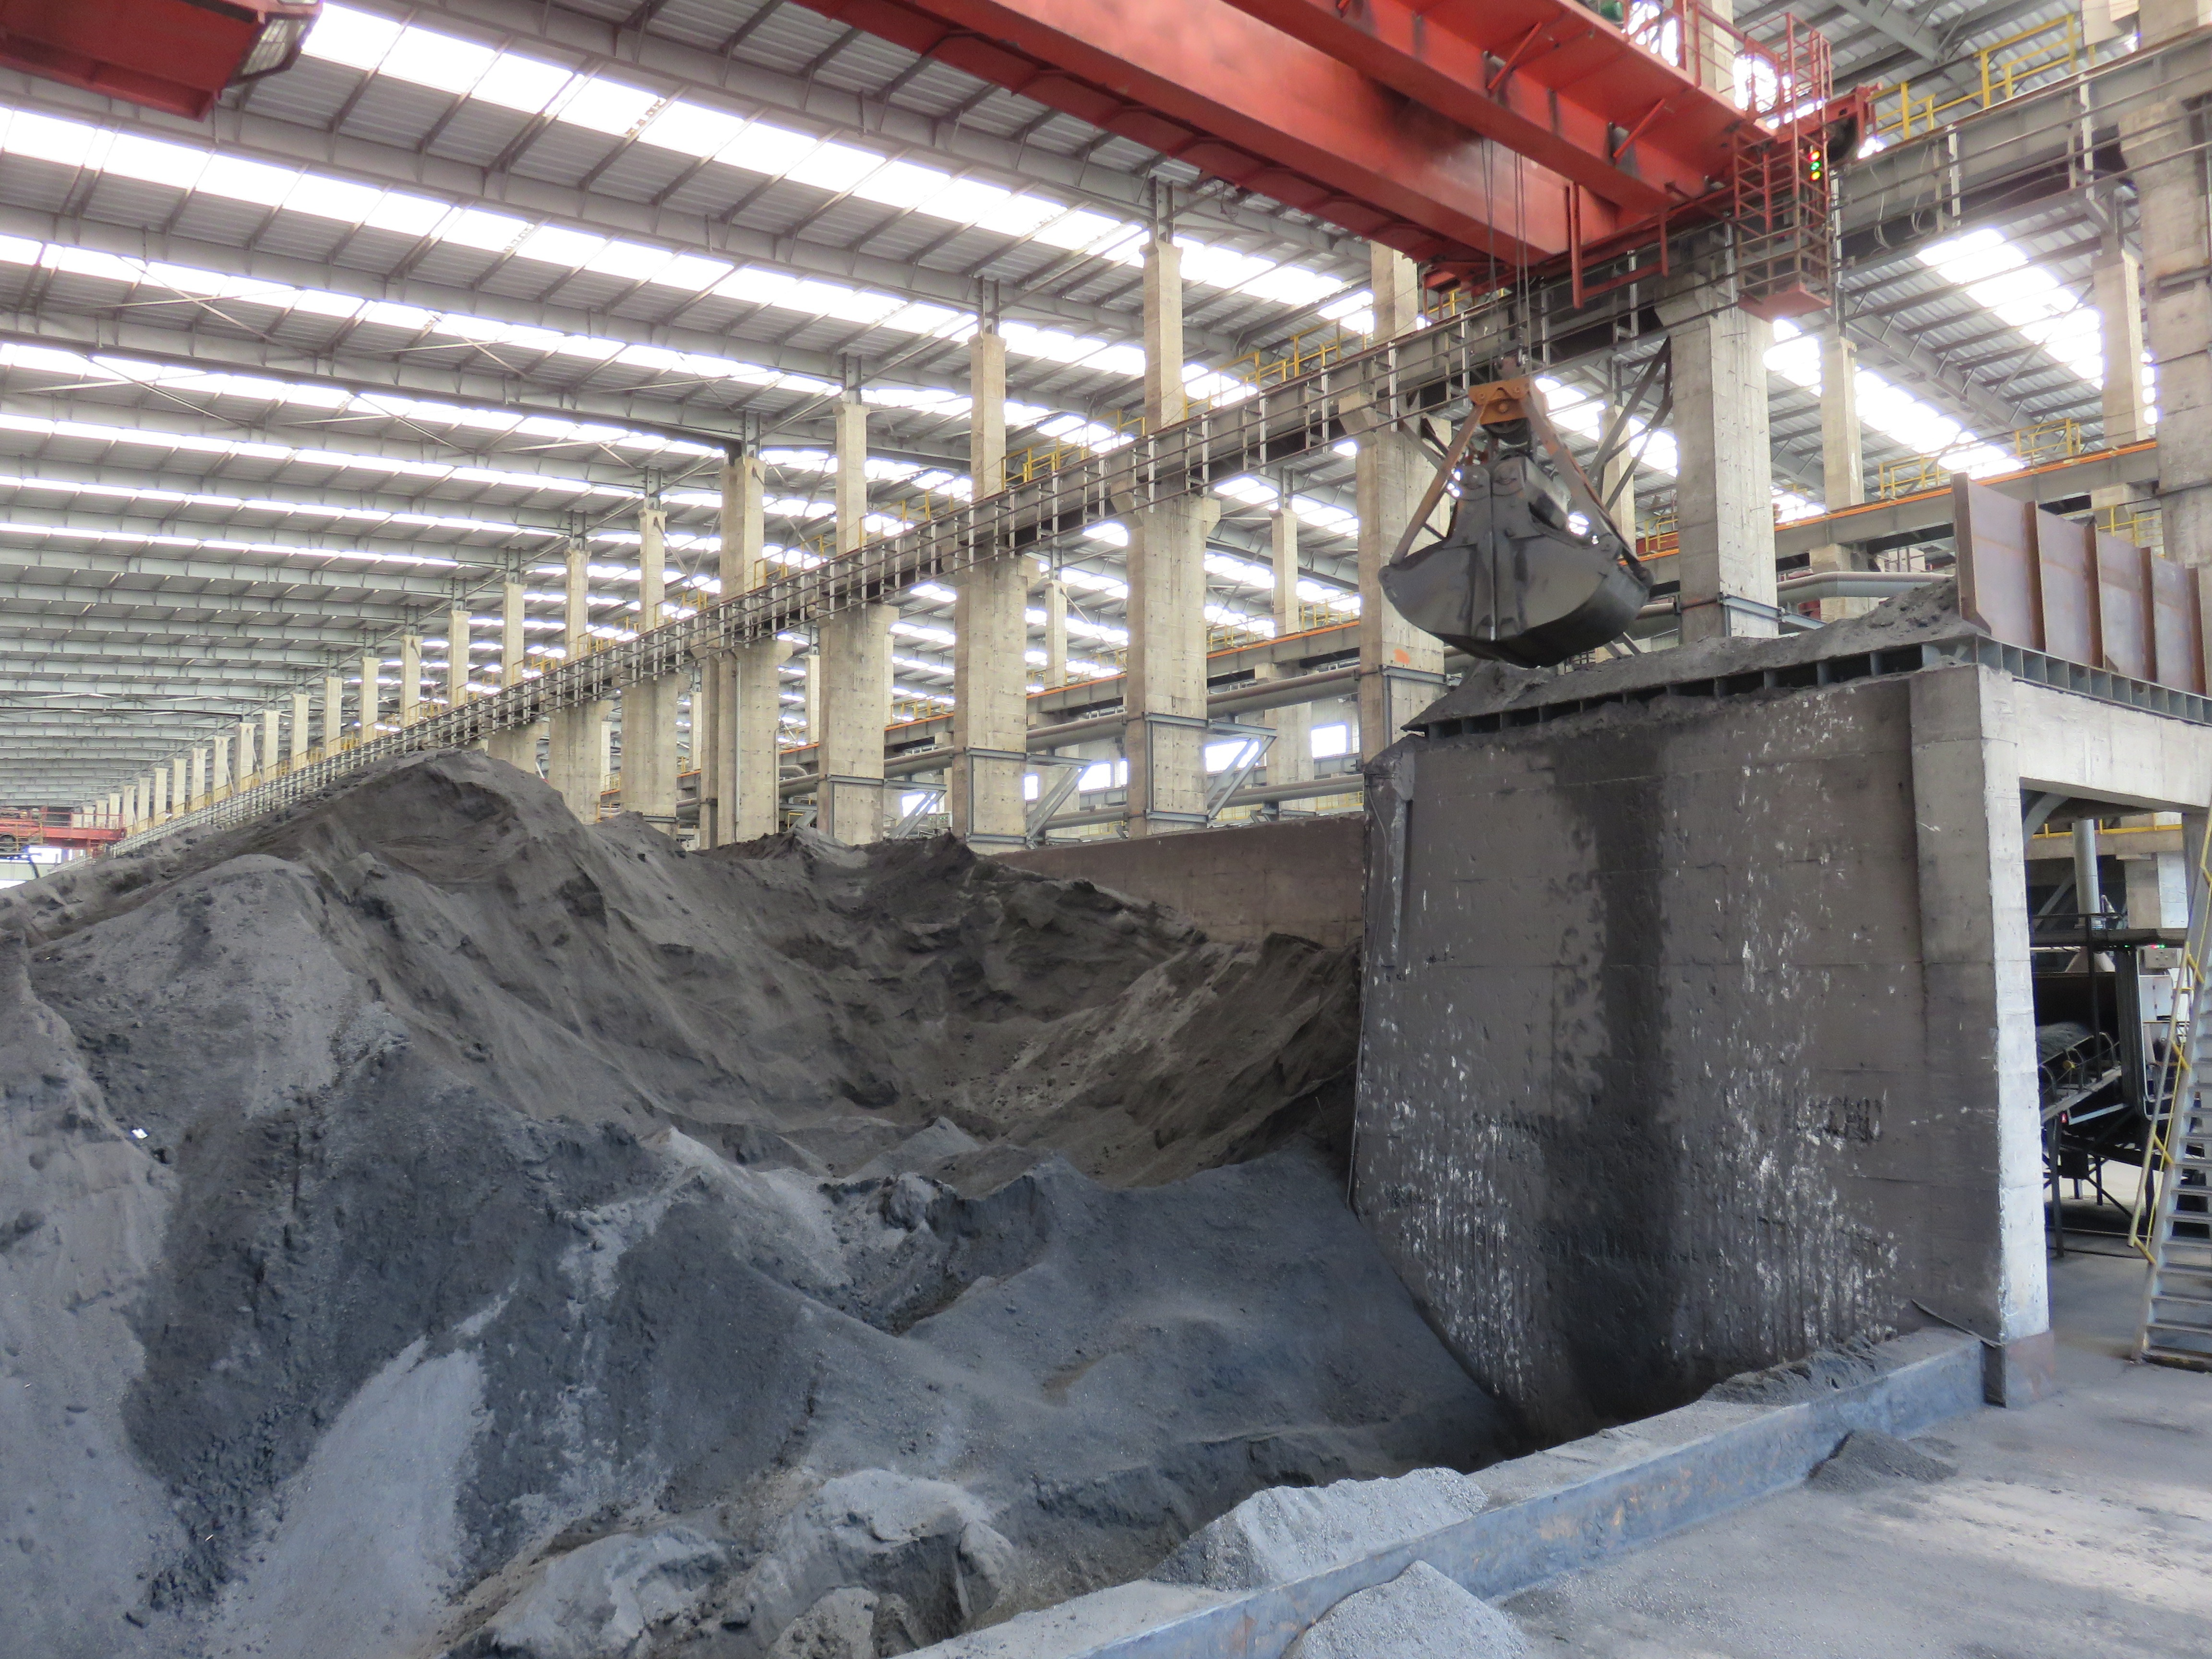grab: (1371, 354, 1663, 671)
